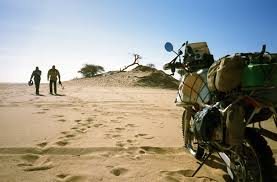motorcycle: (162, 40, 277, 182)
